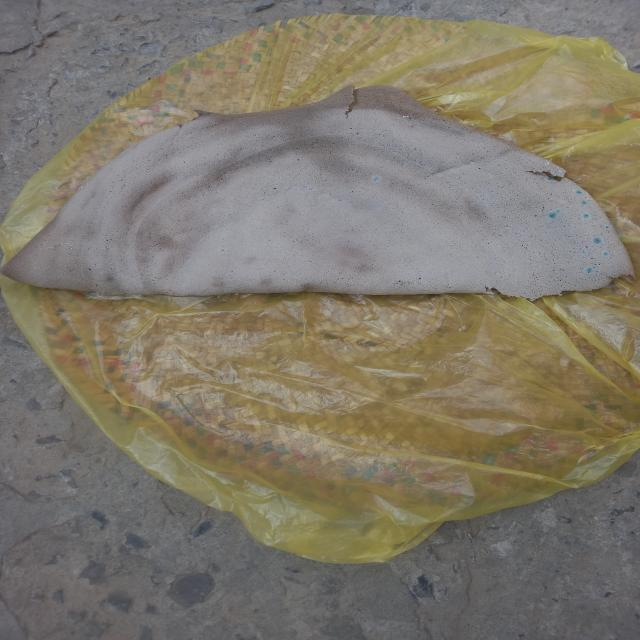injera_mold: (393, 107, 417, 127), (49, 236, 76, 250), (542, 159, 565, 173), (590, 236, 604, 245), (371, 174, 382, 184), (583, 266, 595, 274), (584, 191, 594, 200), (548, 212, 557, 219), (220, 246, 227, 254), (563, 179, 574, 184), (582, 213, 589, 219), (604, 225, 612, 230), (546, 177, 556, 181), (602, 250, 608, 256), (580, 201, 588, 205), (580, 249, 586, 254), (575, 190, 582, 194), (556, 209, 560, 213), (619, 247, 622, 249), (623, 249, 625, 251), (622, 246, 624, 247)
